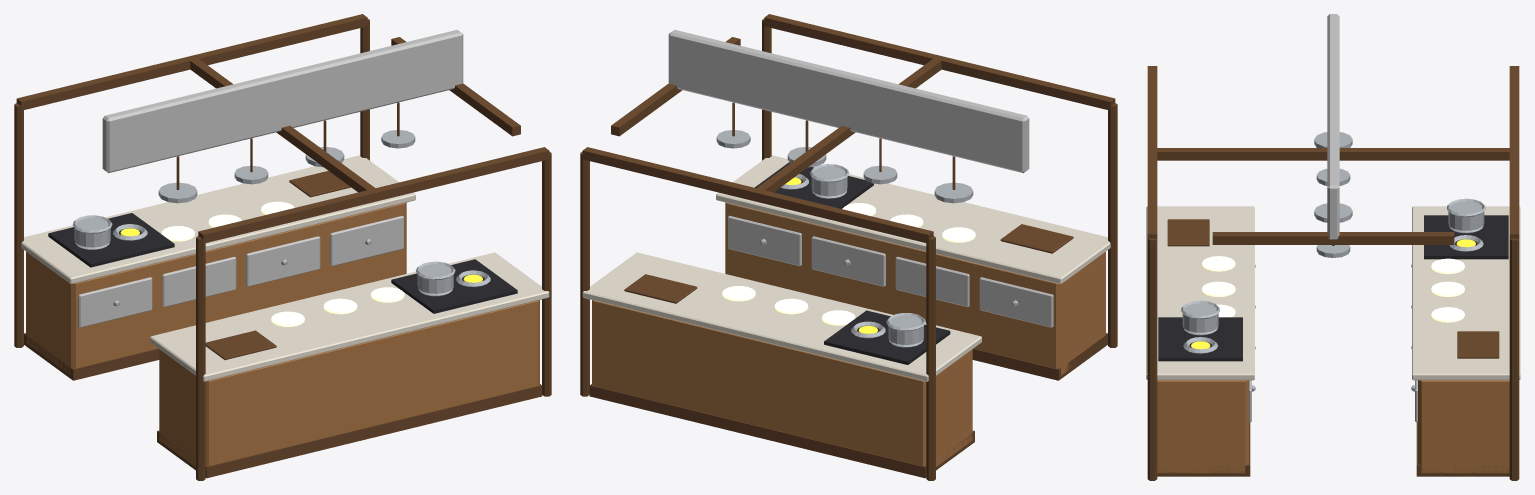
The model's file is ev_kitchen_double_v01.glb.
The picture shows the model from 3 angles, left to right: view 1: azimuth 30°, elevation 25°; view 2: azimuth 150°, elevation 25°; view 3: azimuth 270°, elevation 25°; orthographic projection.
Parts seen in each view (by area): view 1: kitchen; view 2: kitchen; view 3: kitchen, slot_1, slot_8, slot_2, slot_6, slot_7.
Boxes of the visible parts, x1,y1,x2,y2 form: kitchen: (14, 14, 551, 480); kitchen: (580, 14, 1117, 480); kitchen: (1146, 14, 1520, 480); slot_1: (1202, 256, 1235, 271); slot_8: (1431, 307, 1464, 322); slot_2: (1202, 281, 1235, 296); slot_6: (1431, 258, 1464, 274); slot_7: (1431, 281, 1464, 296).
Bounding box in the file's own units: 3.4 × 2.7 × 3.1.
